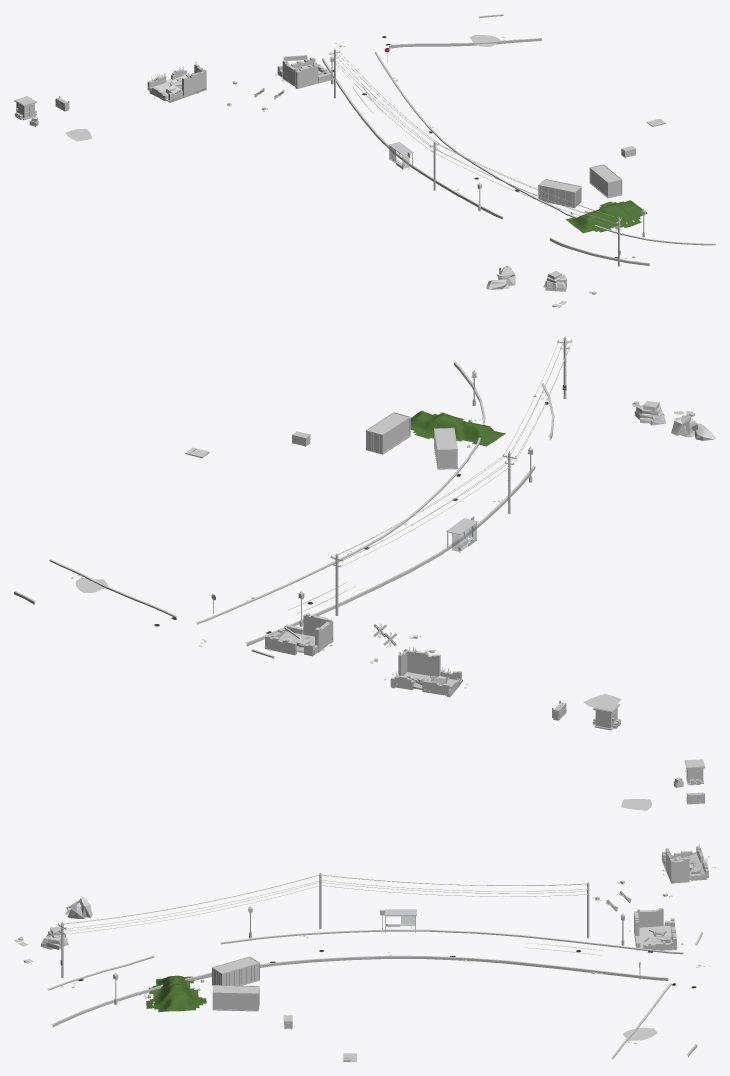
The model's file is outdoor_01.glb.
3 views of the same model, one above another, from view 1: azimuth 30°, elevation 25°; view 2: azimuth 150°, elevation 25°; view 3: azimuth 270°, elevation 25° (orthographic). The views are drawn at different scales.
Parts seen in each view (by area): view 1: gas_station_town; view 2: gas_station_town; view 3: gas_station_town.
Part boxes in pixels (x1,y1,x2,y2): gas_station_town: [14, 14, 715, 307]; gas_station_town: [14, 336, 715, 730]; gas_station_town: [14, 759, 715, 1061].
Bounding box in the file's own units: 86.01 × 11.02 × 93.73.
5 materials, 4 textured.
